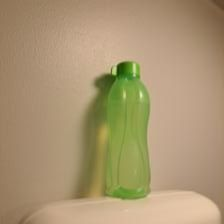bottle: (101, 59, 152, 201)
